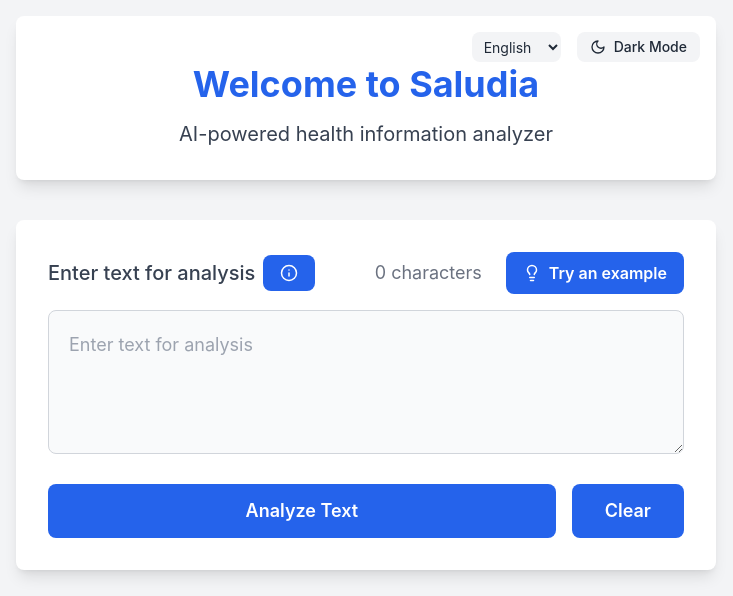
Test: App › switches language and updates UI text
// Check input placeholder text
Step 1. Select "Español" in the dropdown → (516, 47), box [472,32,561,62]
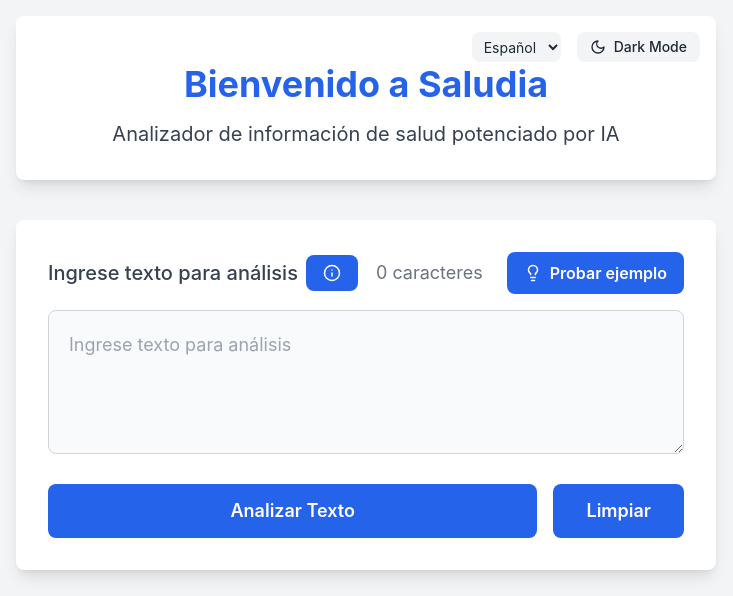
Expected: the text box with placeholder "Ingrese texto para análisis" is shown, [48,310,684,454]
Expected: the button "Analizar Texto" is shown, [48,484,538,538]
Step 2. Select "English" in the dropdown → (516, 47), box [472,32,561,62]
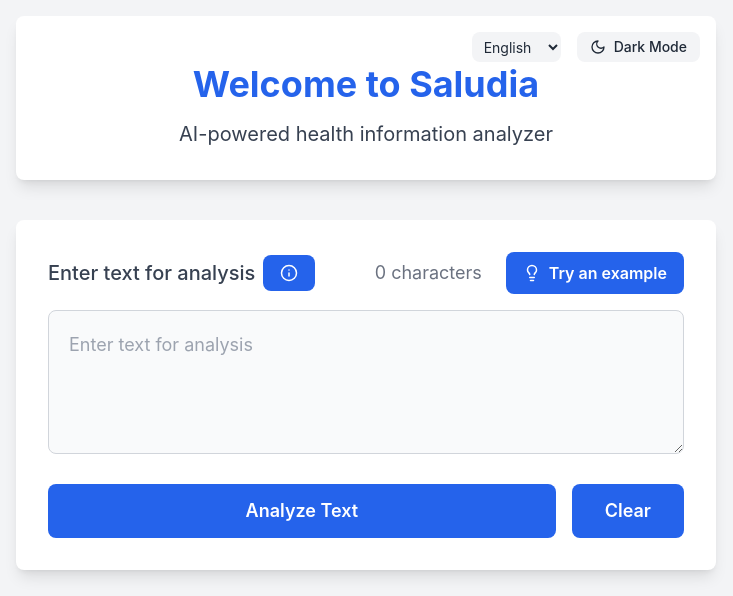
Expected: the text box with placeholder "Enter text for analysis" is shown, [48,310,684,454]
Expected: the button "Analyze Text" is shown, [48,484,556,538]
